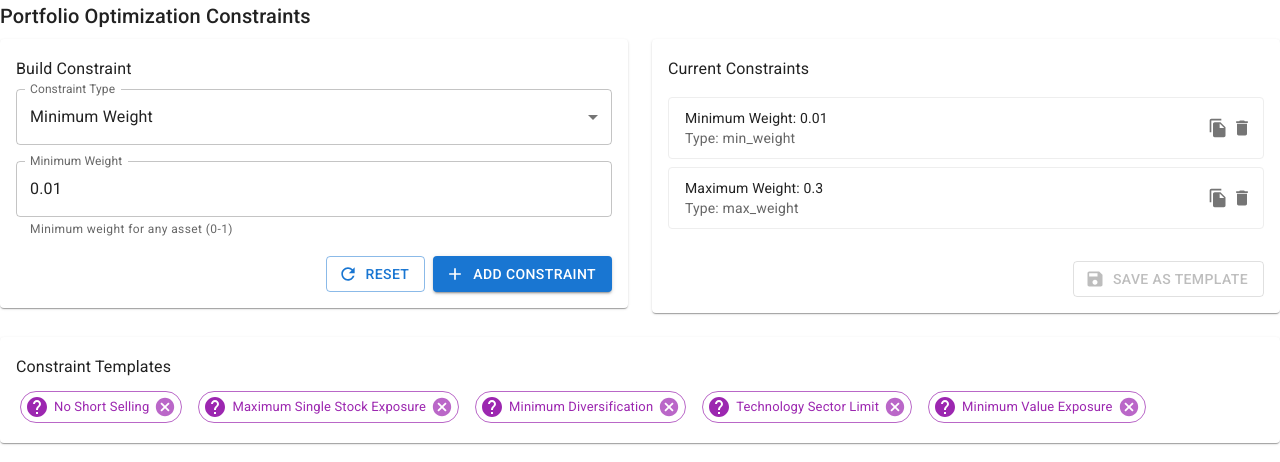
Test: OptimizationConstraintBuilder › allows removing a constraint
// Find and click the delete button for the first constraint
Click the button named "delete" in the row of "Minimum Weight: 0.01": coordinates (1242, 128) 1224,110 -> 1260,146
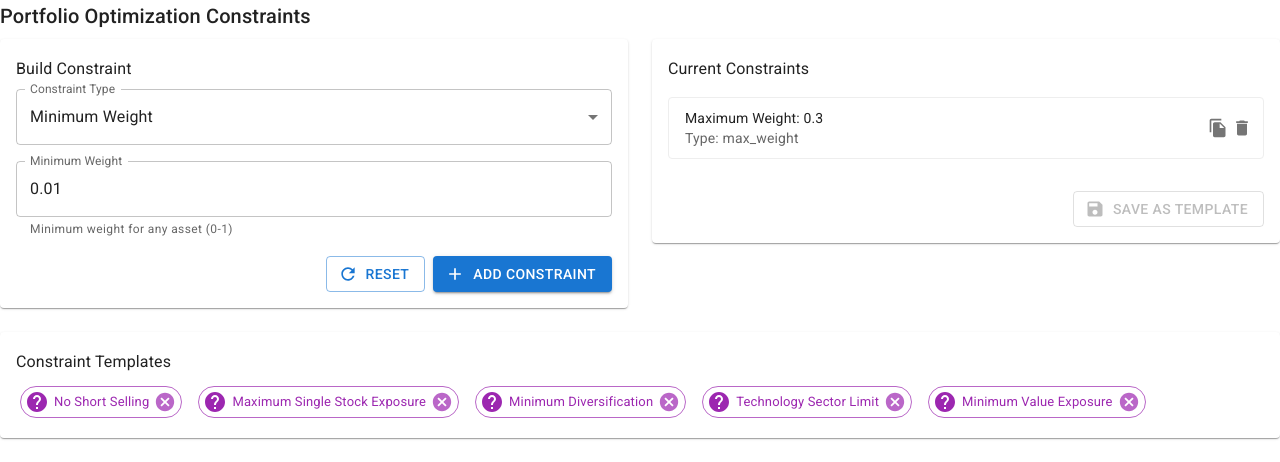
Expected: the text "Minimum Weight: 0.01" is gone
Expected: the text "Maximum Weight: 0.3" is shown, 685,110 -> 823,126
